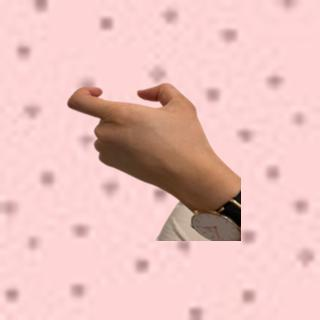HATE: (61, 80, 218, 194)
